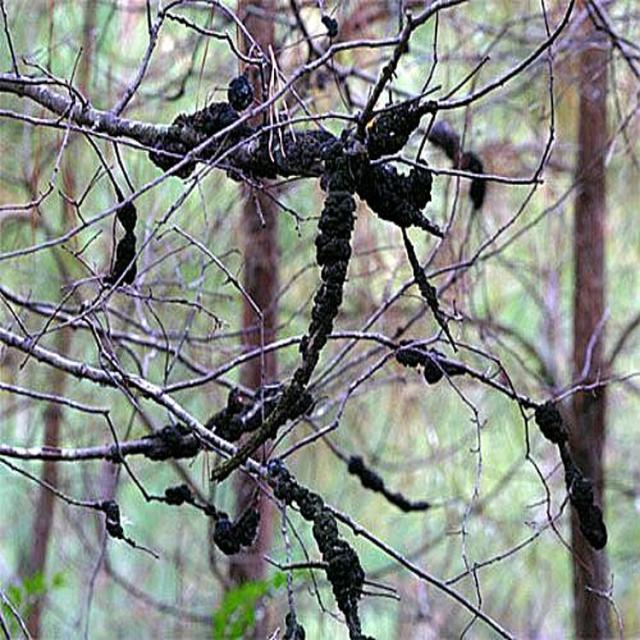Black_knot: (226, 74, 254, 112)
